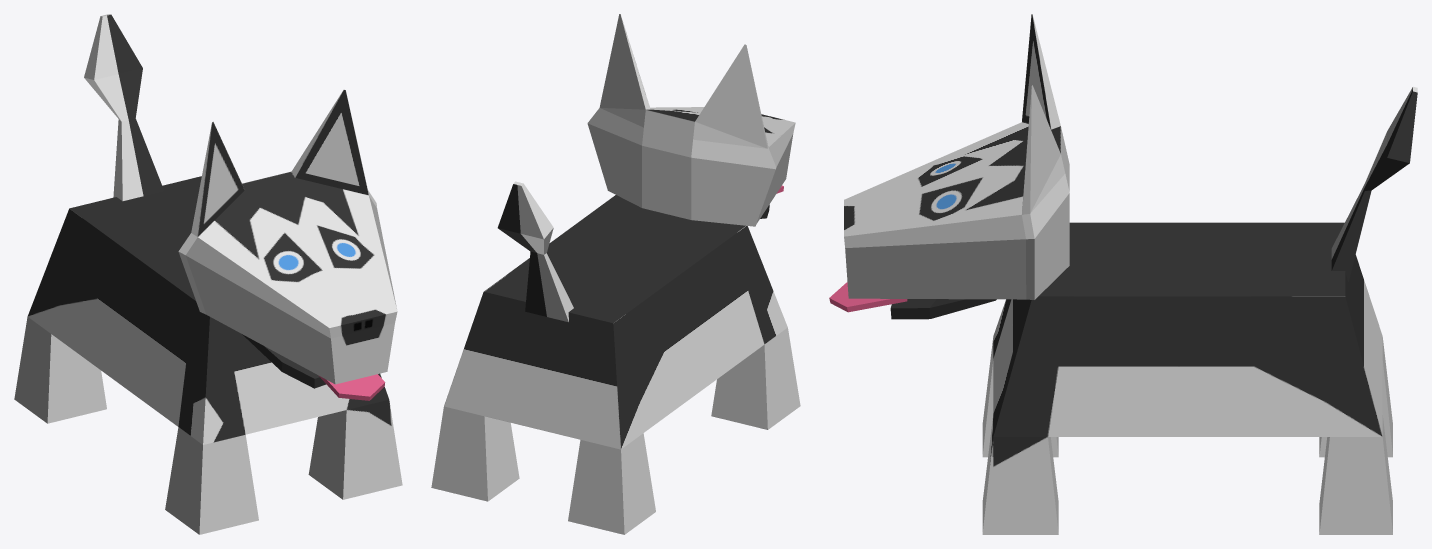
File: HuskyBlack.fbx
3 views of the same model, side by side, from view 1: azimuth 30°, elevation 25°; view 2: azimuth 150°, elevation 25°; view 3: azimuth 270°, elevation 25° (orthographic). The views are drawn at different scales.
Visible parts, largest first — view 1: Head.001, Body.001, Body.007, Body.006, Tail, Body.005, Tongue, Jaw; view 2: Body.001, Head.001, Body.005, Body.003, Body.007, Tail; view 3: Body.001, Head.001, Body.006, Body.003, Tail, Jaw, Body.007, Body.005, Tongue.
Part boxes in pixels (left/top/right/bottom): Head.001: left=178, top=89, right=397, bottom=384; Body.001: left=27, top=176, right=388, bottom=444; Body.007: left=165, top=427, right=258, bottom=534; Body.006: left=308, top=400, right=402, bottom=499; Tail: left=84, top=14, right=164, bottom=201; Body.005: left=14, top=316, right=106, bottom=423; Tongue: left=318, top=374, right=385, bottom=400; Jaw: left=242, top=334, right=326, bottom=388; Body.001: left=444, top=195, right=787, bottom=449; Head.001: left=587, top=14, right=795, bottom=226; Body.005: left=568, top=433, right=655, bottom=534; Body.003: left=431, top=406, right=519, bottom=501; Body.007: left=711, top=327, right=800, bottom=429; Tail: left=497, top=181, right=573, bottom=322; Body.001: left=993, top=222, right=1382, bottom=436; Head.001: left=844, top=14, right=1069, bottom=299; Body.006: left=982, top=415, right=1058, bottom=534; Body.003: left=1319, top=415, right=1392, bottom=534; Tail: left=1331, top=86, right=1417, bottom=281; Jaw: left=890, top=299, right=996, bottom=319; Body.007: left=982, top=338, right=1058, bottom=457; Body.005: left=1319, top=337, right=1392, bottom=457; Tongue: left=829, top=282, right=907, bottom=312.
Bounding box in the file's own units: 163 × 298 × 369.
